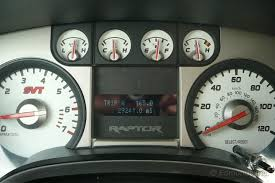Digital_Meter: (96, 93, 173, 118)
